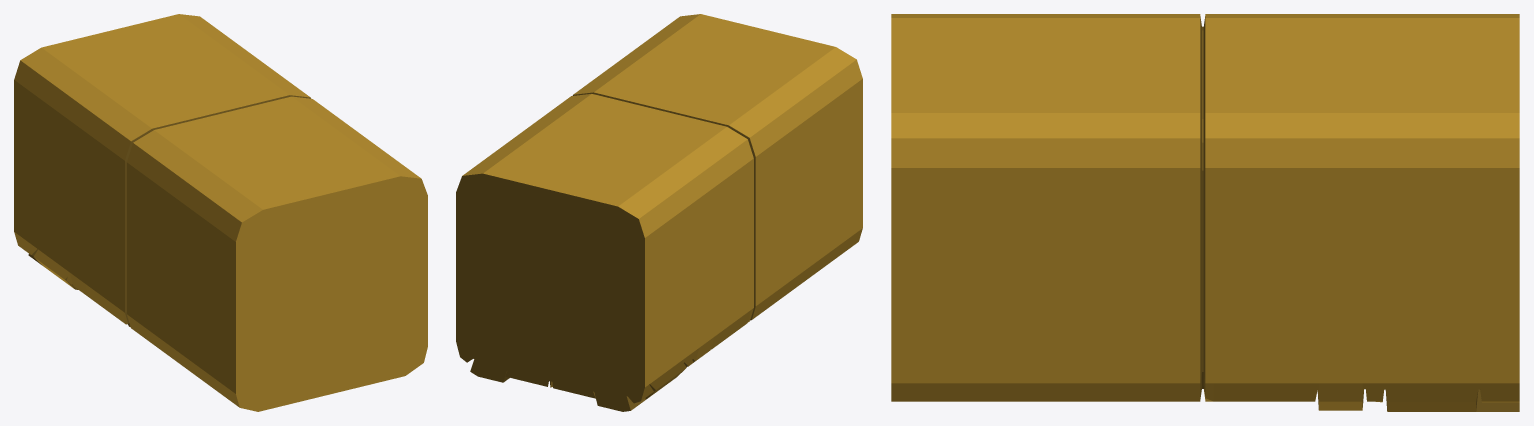
The model's file is PM-Idol.fbx.
3 views of the same model, side by side, from view 1: azimuth 30°, elevation 25°; view 2: azimuth 150°, elevation 25°; view 3: azimuth 270°, elevation 25° (orthographic). The views are drawn at different scales.
Parts seen in each view (by area): view 1: Cube.001; view 2: Cube.001; view 3: Cube.001.
Boxes of the visible parts, x1,y1,x2,y2 form: Cube.001: (14, 14, 427, 411); Cube.001: (456, 14, 862, 411); Cube.001: (891, 14, 1519, 411).
Bounding box in the file's own units: 100 × 103 × 200.
